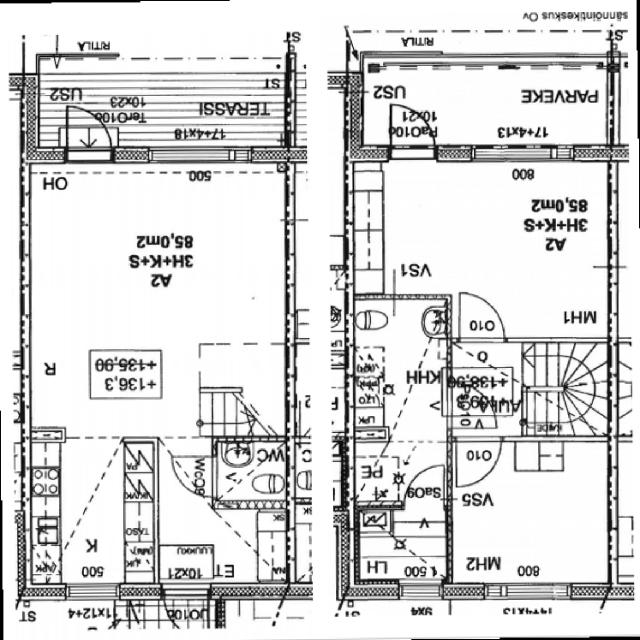door: (390, 99, 435, 162), (67, 104, 110, 163), (164, 584, 208, 640), (446, 382, 498, 428), (456, 436, 500, 487), (460, 293, 504, 343), (404, 464, 444, 510), (173, 457, 217, 496)
